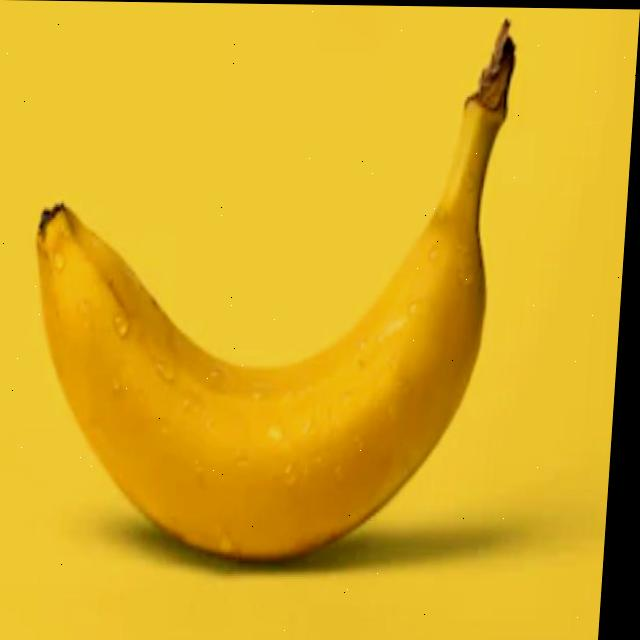banana: (4, 184, 522, 583)
